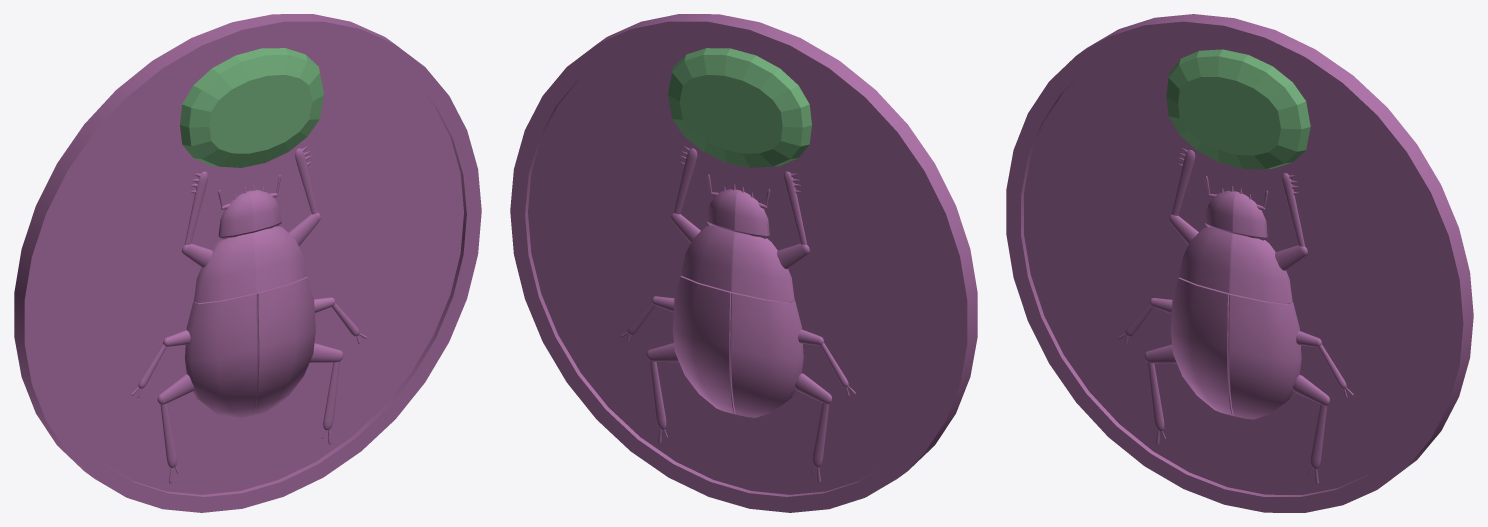
File: Moneda Circulo.fbx
The picture shows the model from 3 angles, left to right: view 1: azimuth 30°, elevation 25°; view 2: azimuth 150°, elevation 25°; view 3: azimuth 330°, elevation 25°; orthographic projection.
Visible parts, largest first — view 1: polySurface58; view 2: polySurface58; view 3: polySurface58.
Boxes of the visible parts, <box> form: polySurface58: <box>14,14,481,512</box>; polySurface58: <box>510,14,977,512</box>; polySurface58: <box>1006,14,1473,512</box>.
Bounding box in the file's own units: 4.66 × 4.67 × 0.4112.
